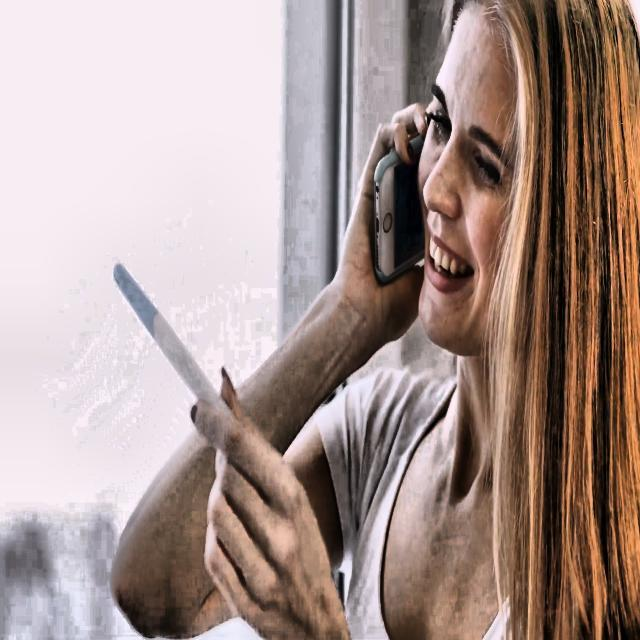Phone: (370, 127, 433, 286)
